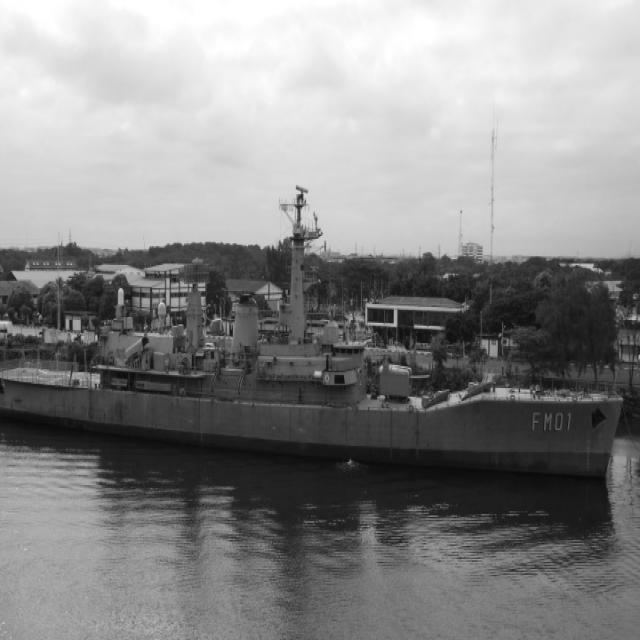Fragata: (1, 171, 629, 485)
